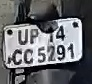1: (44, 29, 56, 45), (67, 44, 78, 59)
2: (46, 45, 57, 63)
4: (55, 26, 67, 42)
5: (37, 47, 48, 65)
9: (57, 44, 65, 62)
C: (21, 50, 36, 66), (12, 48, 23, 67)
P: (28, 28, 39, 44)
U: (15, 27, 29, 46)
